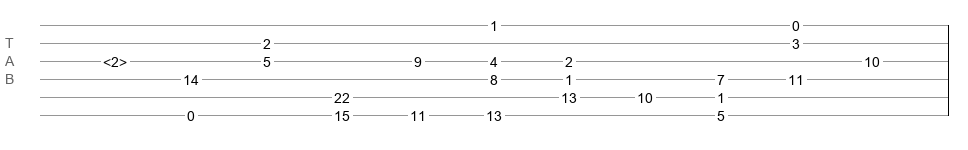0: (187, 108, 195, 118), (792, 18, 800, 28)
1: (490, 18, 498, 28), (565, 72, 573, 82), (717, 90, 725, 100)
10: (637, 90, 653, 100), (864, 54, 880, 64)
11: (410, 108, 426, 118), (788, 72, 804, 82)
13: (486, 108, 502, 118), (561, 90, 577, 100)
14: (183, 72, 199, 82)
15: (334, 108, 350, 118)
2: (263, 36, 271, 46), (565, 54, 573, 64)
22: (334, 90, 350, 100)
3: (792, 36, 800, 46)
4: (490, 54, 498, 64)
5: (263, 54, 271, 64), (717, 108, 725, 118)
7: (717, 72, 725, 82)
8: (490, 72, 498, 82)
9: (414, 54, 422, 64)
harmonic: (103, 54, 127, 64)
